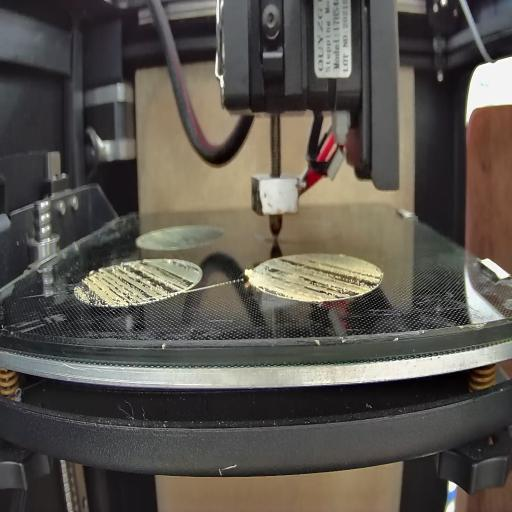under_extrusion: (256, 257, 380, 302), (77, 260, 197, 305)
